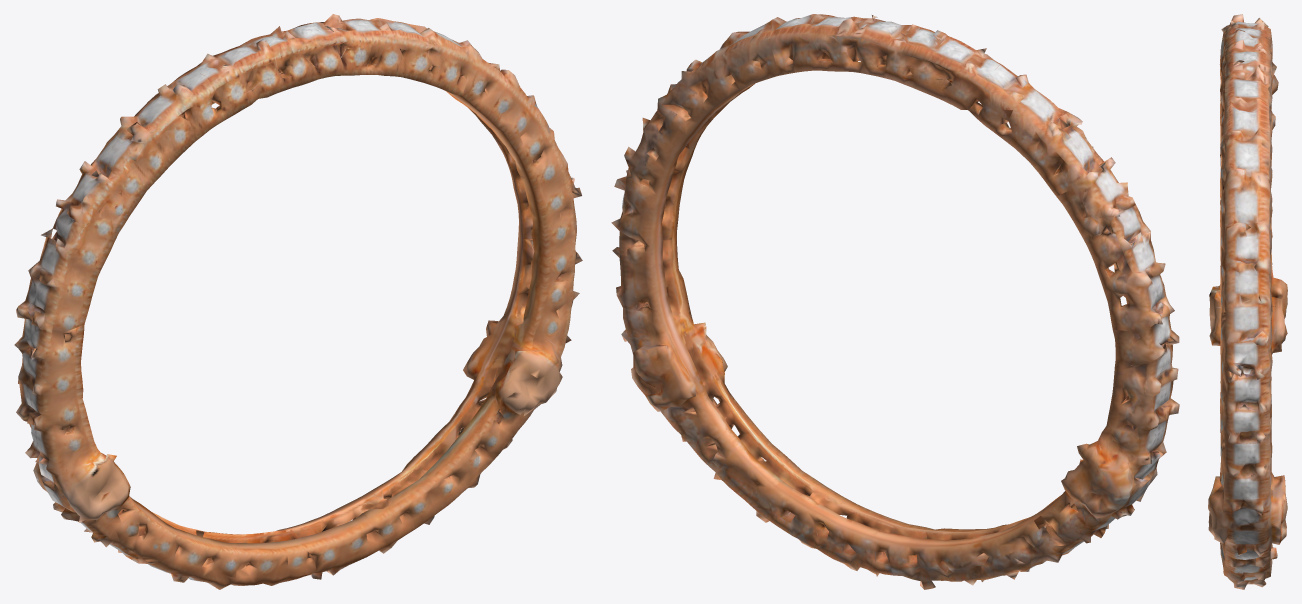
The picture shows the model from 3 angles, left to right: view 1: azimuth 30°, elevation 25°; view 2: azimuth 150°, elevation 25°; view 3: azimuth 270°, elevation 25°; orthographic projection. The views are drawn at different scales.
Visible parts, largest first — view 1: Mesh_0.001; view 2: Mesh_0.001; view 3: Mesh_0.001.
Boxes of the visible parts, <box> form: Mesh_0.001: <box>14,14,582,589</box>; Mesh_0.001: <box>611,14,1179,589</box>; Mesh_0.001: <box>1208,14,1287,589</box>.
Bounding box in the file's own units: 2 × 1.91 × 0.2701.
Materials: 1 (1 with a texture image).
